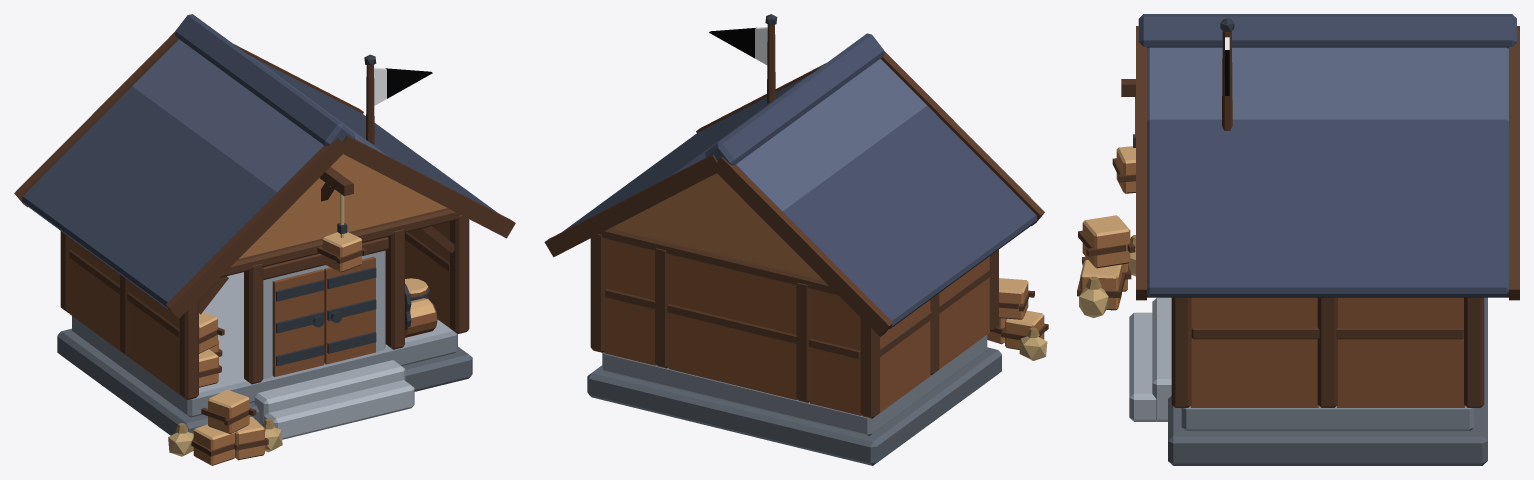
File: Bld_Warehouse_L2.fbx
The picture shows the model from 3 angles, left to right: view 1: azimuth 30°, elevation 25°; view 2: azimuth 150°, elevation 25°; view 3: azimuth 270°, elevation 25°; orthographic projection. The views are drawn at different scales.
Parts seen in each view (by area): view 1: Bld_Warehouse_L2; view 2: Bld_Warehouse_L2; view 3: Bld_Warehouse_L2.
Part boxes in pixels (<box>): Bld_Warehouse_L2: <box>14,14,515,465</box>; Bld_Warehouse_L2: <box>544,14,1048,465</box>; Bld_Warehouse_L2: <box>1077,14,1519,465</box>.
Size of the model in its own units: 5.38 by 4.85 by 4.84.
